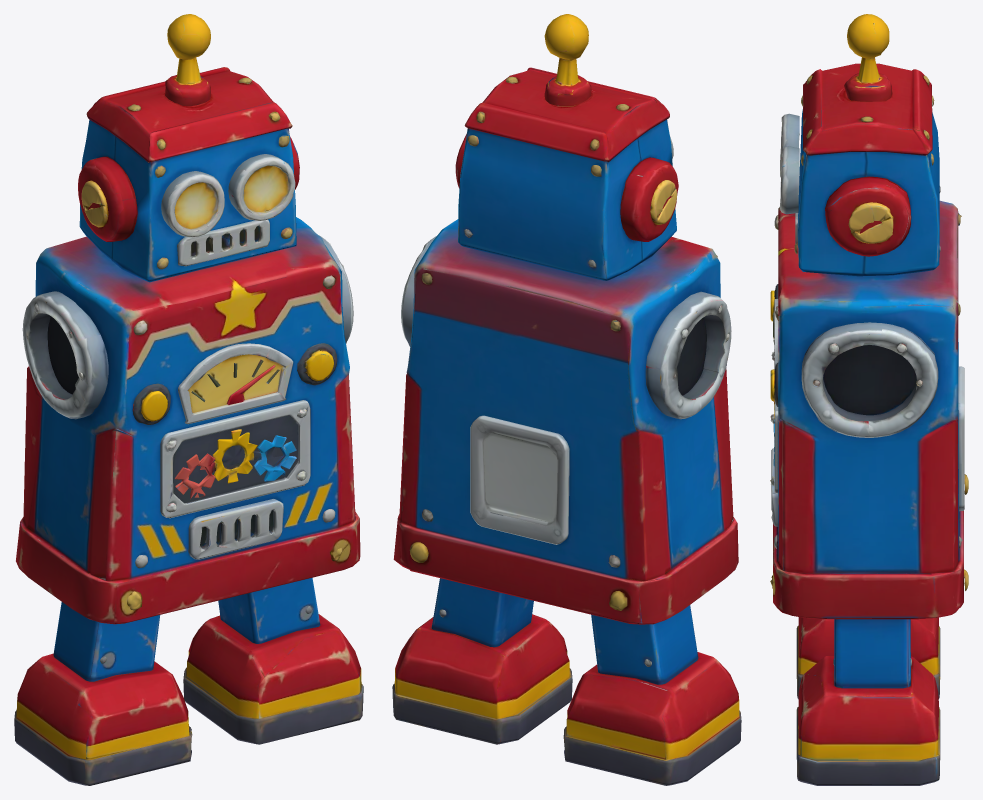
Rendered from robot_body.glb.
The picture shows the model from 3 angles, left to right: view 1: azimuth 30°, elevation 25°; view 2: azimuth 150°, elevation 25°; view 3: azimuth 270°, elevation 25°; orthographic projection.
Size of what is drawn, in the model's own units: 0.4366 by 1 by 0.257.
Materials: 1 (1 with a texture image).
